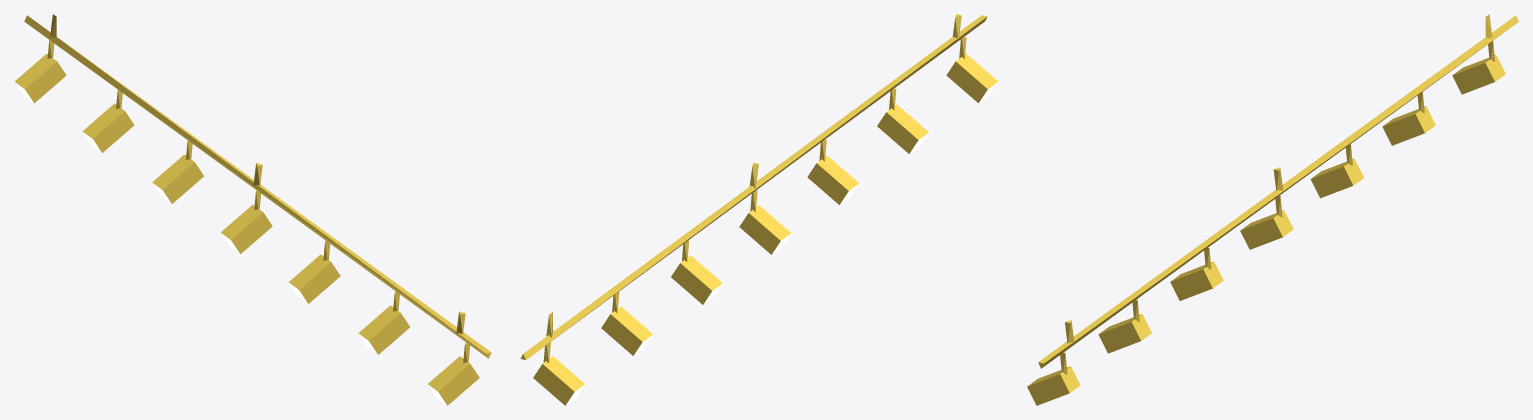
File: gallery lights2.glb
3 renders of one model, left to right at view 1: azimuth 30°, elevation 25°; view 2: azimuth 150°, elevation 25°; view 3: azimuth 330°, elevation 25°, orthographic. The views are drawn at different scales.
Parts seen in each view (by area): view 1: light gallery 3; view 2: light gallery 3; view 3: light gallery 3.
Part boxes in pixels (bbox=[...]): light gallery 3: bbox=[14, 14, 491, 405]; light gallery 3: bbox=[520, 14, 998, 405]; light gallery 3: bbox=[1027, 14, 1518, 405].
Bounding box in the file's own units: 0.5305 × 0.9856 × 10.19.
